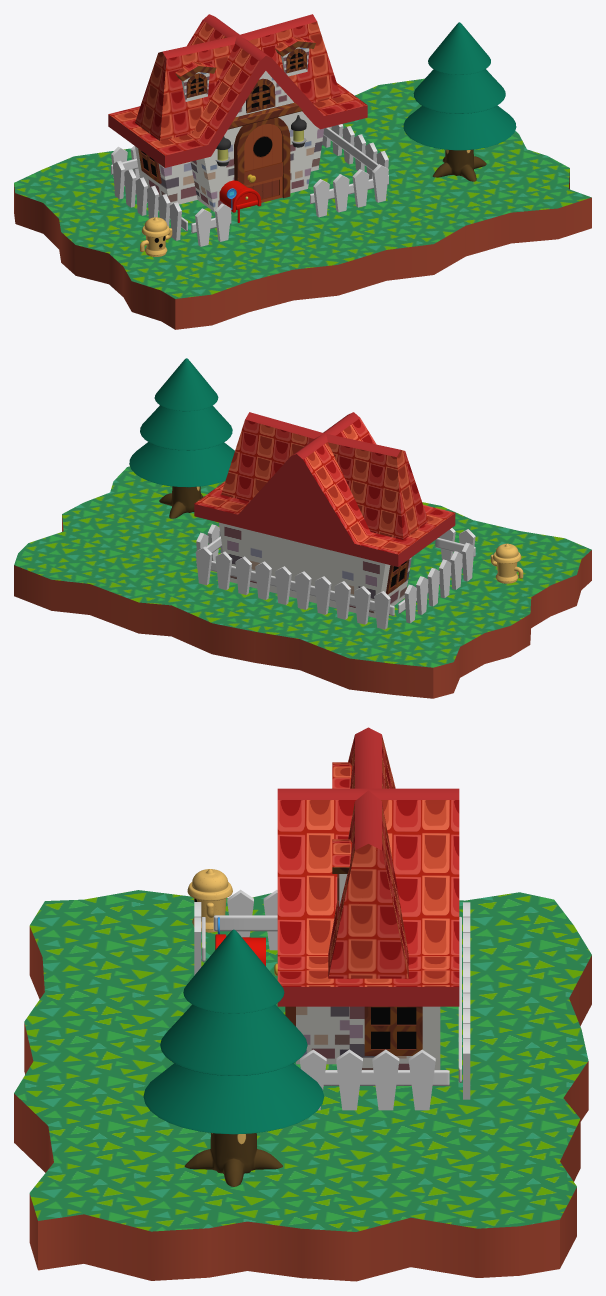
The picture shows the model from 3 angles, top to bottom: view 1: azimuth 30°, elevation 25°; view 2: azimuth 150°, elevation 25°; view 3: azimuth 270°, elevation 25°; orthographic projection. The views are drawn at different scales.
Visible parts, largest first — view 1: Base, House_Roof_Front, TreeResizeCopy, House_Roof_Side, House_Extended_Front, Door, House_Base, Door_Marque, Tree_OneShape_Test006, Gyroid, House_Roof_Bar, Window (+10 smaller); view 2: Base, House_Roof_Front, House_Roof_Side, TreeResizeCopy, House_Base, Tree_OneShape_Test006, Gyroid, Fence_Bar_Back, Fence_Individual016, Fence_Individual017, Fence_Individual020, Fence_Individual023 (+7 smaller); view 3: Base, House_Roof_Front, TreeResizeCopy, House_Roof_Side, Window_Squared_Right, Tree_OneShape_Test006, House_Extended_Front, House_Base, Gyroid, Fence_Individual011, Fence_Individual009, Fence_Individual010 (+2 smaller).
Part boxes in pixels (bbox=[...]): Base: bbox=[14, 78, 591, 329]; House_Roof_Front: bbox=[108, 14, 367, 167]; TreeResizeCopy: bbox=[403, 22, 516, 150]; House_Roof_Side: bbox=[135, 14, 340, 141]; House_Extended_Front: bbox=[190, 71, 317, 211]; Door: bbox=[244, 124, 282, 202]; House_Base: bbox=[135, 128, 324, 204]; Door_Marque: bbox=[234, 117, 290, 198]; Tree_OneShape_Test006: bbox=[432, 149, 486, 181]; Gyroid: bbox=[141, 217, 170, 256]; House_Roof_Bar: bbox=[228, 102, 302, 129]; Window: bbox=[246, 78, 275, 113]; Base: bbox=[14, 466, 591, 698]; House_Roof_Front: bbox=[194, 412, 455, 566]; House_Roof_Side: bbox=[221, 412, 428, 539]; TreeResizeCopy: bbox=[129, 358, 234, 487]; House_Base: bbox=[219, 522, 411, 617]; Tree_OneShape_Test006: bbox=[159, 486, 203, 518]; Gyroid: bbox=[493, 543, 521, 583]; Fence_Bar_Back: bbox=[196, 561, 394, 615]; Fence_Individual016: bbox=[195, 546, 212, 585]; Fence_Individual017: bbox=[215, 551, 232, 589]; Fence_Individual020: bbox=[275, 566, 291, 604]; Fence_Individual023: bbox=[334, 581, 351, 619]; Base: bbox=[14, 890, 591, 1281]; House_Roof_Front: bbox=[277, 788, 459, 1006]; TreeResizeCopy: bbox=[143, 929, 324, 1134]; House_Roof_Side: bbox=[328, 727, 408, 978]; Window_Squared_Right: bbox=[364, 1006, 422, 1055]; Tree_OneShape_Test006: bbox=[184, 1133, 282, 1186]; House_Extended_Front: bbox=[296, 1006, 349, 1064]; House_Base: bbox=[349, 1006, 440, 1069]; Gyroid: bbox=[187, 869, 232, 932]; Fence_Individual011: bbox=[408, 1049, 435, 1110]; Fence_Individual009: bbox=[336, 1049, 362, 1110]; Fence_Individual010: bbox=[372, 1049, 399, 1110].
Size of the model in its own units: 228 by 89.11 by 159.
Materials: 25 (16 with a texture image).
